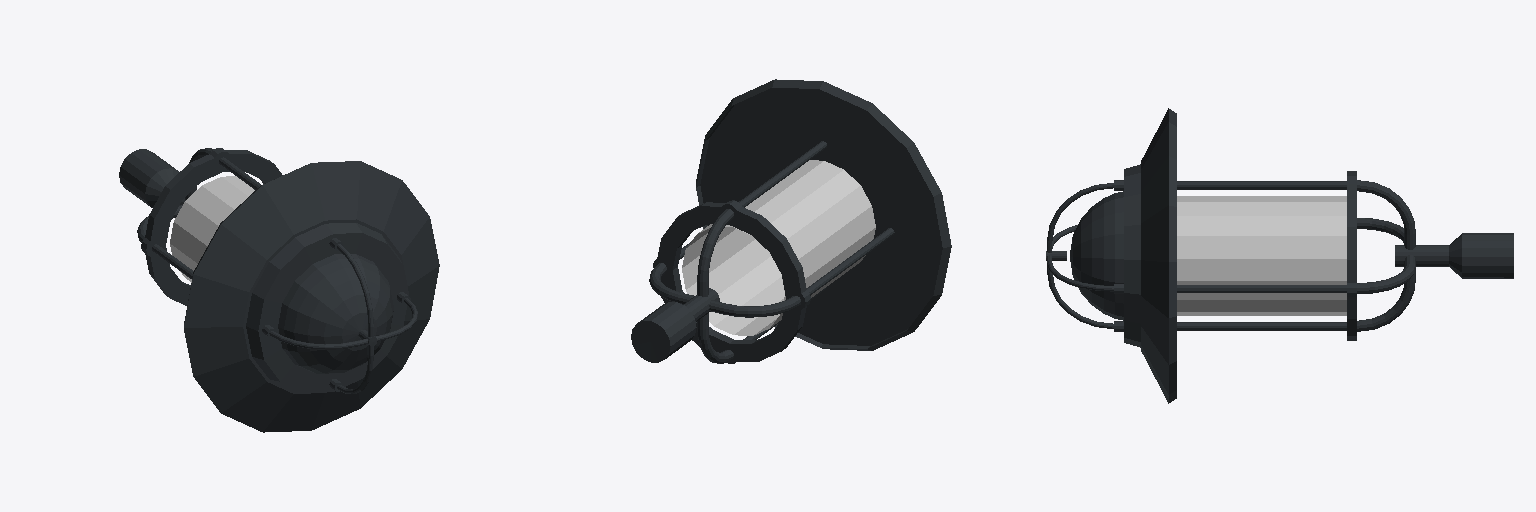
3 views of the same model, side by side, from view 1: azimuth 30°, elevation 25°; view 2: azimuth 150°, elevation 25°; view 3: azimuth 270°, elevation 25° (orthographic).
Parts seen in each view (by area): view 1: BezierCurve.002, Glas, BezierCurve.003, Cylinder.001; view 2: BezierCurve.002, Glas, BezierCurve.005, Cylinder.001; view 3: BezierCurve.002, Glas, Cylinder.001, BezierCurve.005, BezierCurve.003.
Boxes of the visible parts, <box> form: BezierCurve.002: <box>119,148,439,432</box>; Glas: <box>170,176,254,282</box>; BezierCurve.003: <box>269,244,417,393</box>; Cylinder.001: <box>152,157,410,391</box>; BezierCurve.002: <box>631,79,951,363</box>; Glas: <box>682,160,875,335</box>; BezierCurve.005: <box>649,209,800,363</box>; Cylinder.001: <box>679,141,894,339</box>; BezierCurve.002: <box>1046,108,1513,403</box>; Glas: <box>1177,196,1346,315</box>; Cylinder.001: <box>1114,180,1346,331</box>; BezierCurve.005: <box>1357,180,1415,331</box>; BezierCurve.003: <box>1047,183,1113,328</box>.
Bounding box in the file's own units: 0.5706 × 0.5706 × 0.9043.
Materials: 5 (2 with a texture image).